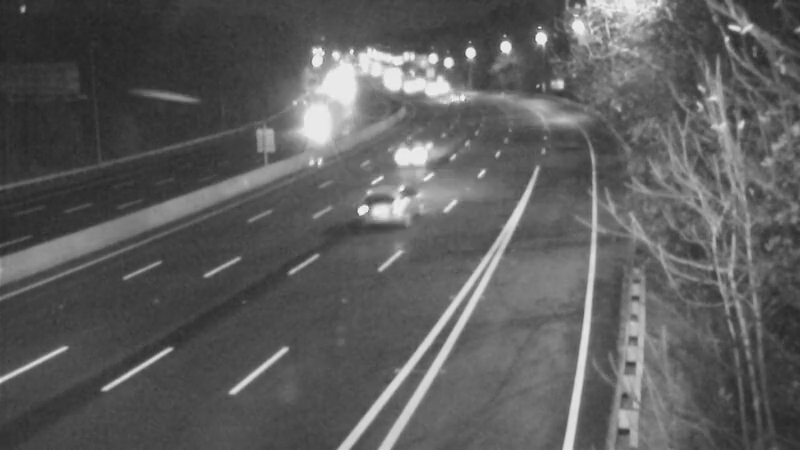vehicle: (366, 112, 446, 192), (342, 161, 422, 241), (427, 75, 477, 125), (289, 97, 339, 147)
